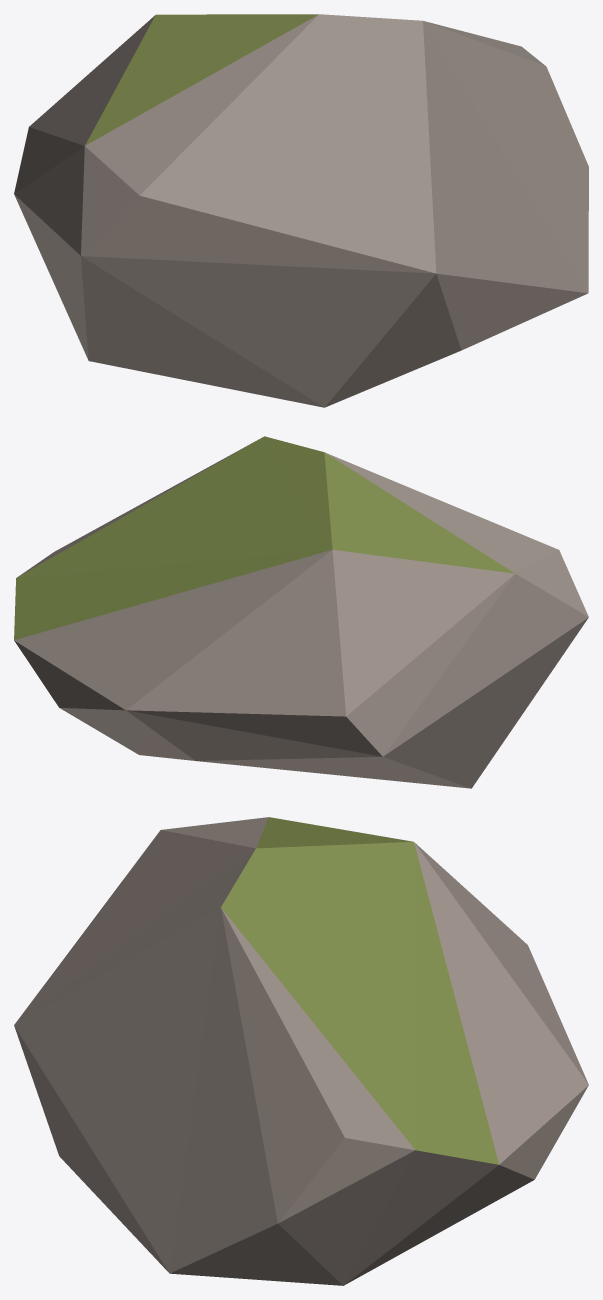
The model's file is rock_c.glb.
3 views of the same model, one above another, from view 1: azimuth 30°, elevation 25°; view 2: azimuth 150°, elevation 25°; view 3: azimuth 270°, elevation 25° (orthographic). The views are drawn at different scales.
Parts seen in each view (by area): view 1: rock_c; view 2: rock_c; view 3: rock_c.
Part boxes in pixels (x1,y1,x2,y2): rock_c: [14, 14, 588, 407]; rock_c: [14, 436, 588, 788]; rock_c: [14, 817, 588, 1285].
Bounding box in the file's own units: 1.57 × 0.867 × 1.38.
